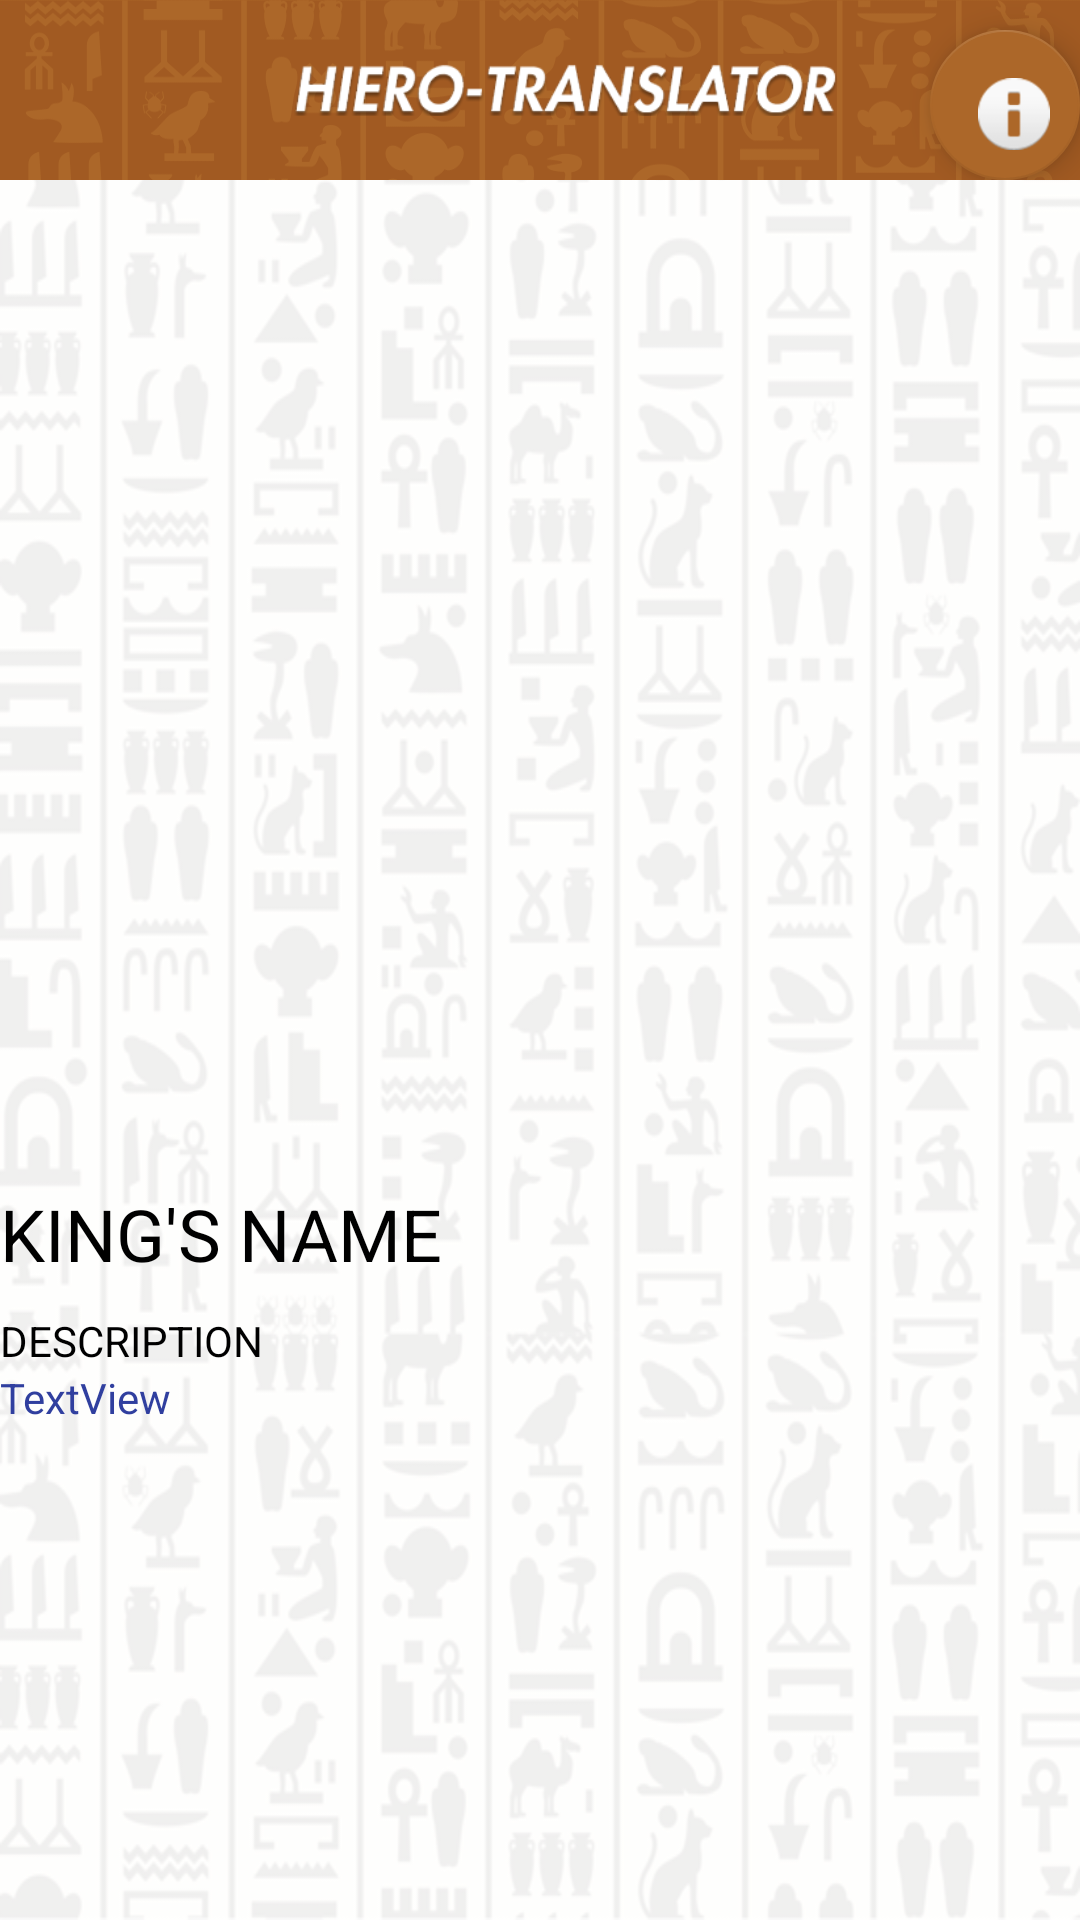

Named icons in this screenshot (1080px x 1920px) and their bounding boxes, [left=x1, top=y1, right=x2, bottom=y2]:
info: [left=930, top=30, right=1080, bottom=180]
